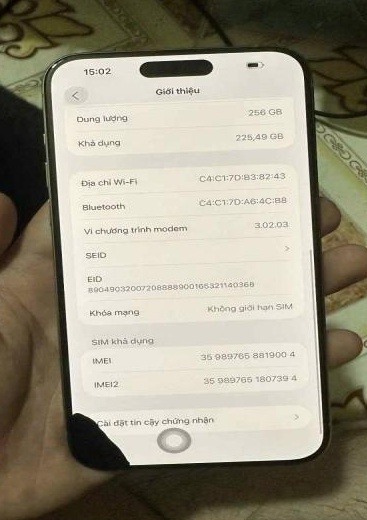screen_defect: (62, 409, 137, 475)
